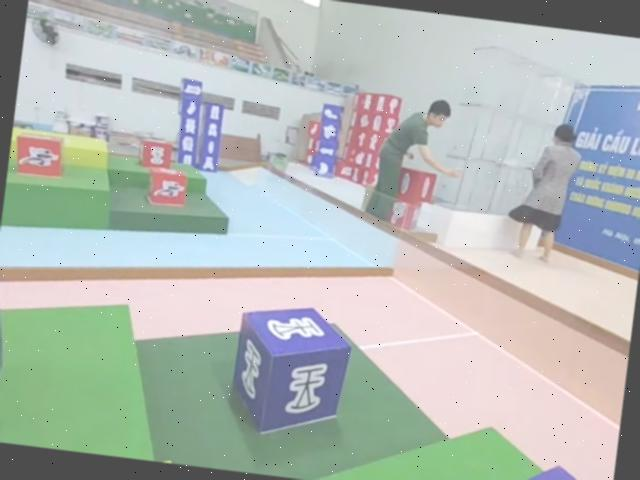R2 Fake Blue: (0, 268, 12, 441)
R2 Real Blue: (224, 301, 353, 446), (0, 268, 12, 441)
